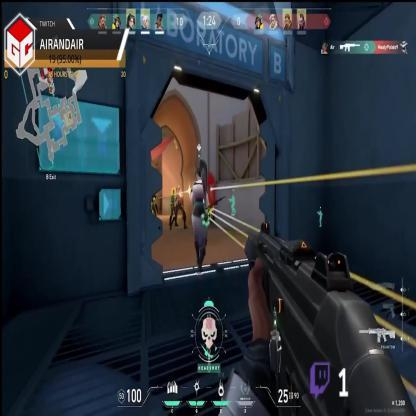enemy: (170, 187, 187, 231), (148, 184, 158, 224), (169, 187, 177, 228)
enemy_head: (150, 184, 155, 194), (177, 186, 182, 192), (172, 187, 175, 196)
